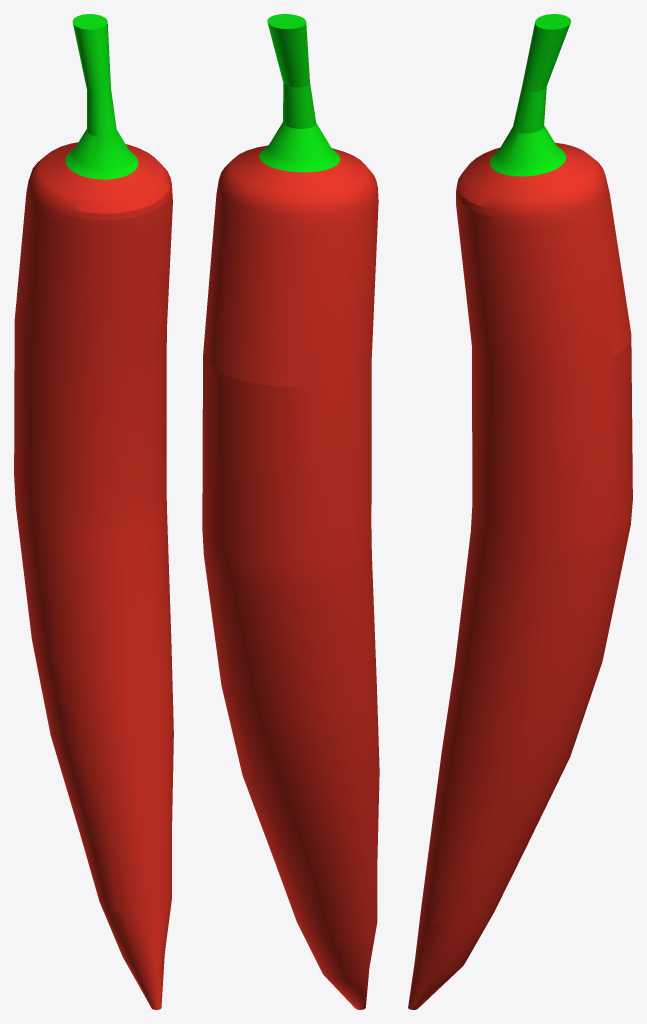
The model's file is _EPER.fbx.
3 renders of one model, left to right at view 1: azimuth 30°, elevation 25°; view 2: azimuth 150°, elevation 25°; view 3: azimuth 270°, elevation 25°, orthographic. The views are drawn at different scales.
Visible parts, largest first — view 1: Cylinder.001; view 2: Cylinder.001; view 3: Cylinder.001.
Boxes of the visible parts, x1,y1,x2,y2 form: Cylinder.001: (14, 14, 173, 1009); Cylinder.001: (202, 14, 379, 1009); Cylinder.001: (408, 14, 632, 1009).
Bounding box in the file's own units: 16.37 × 111 × 22.91.
